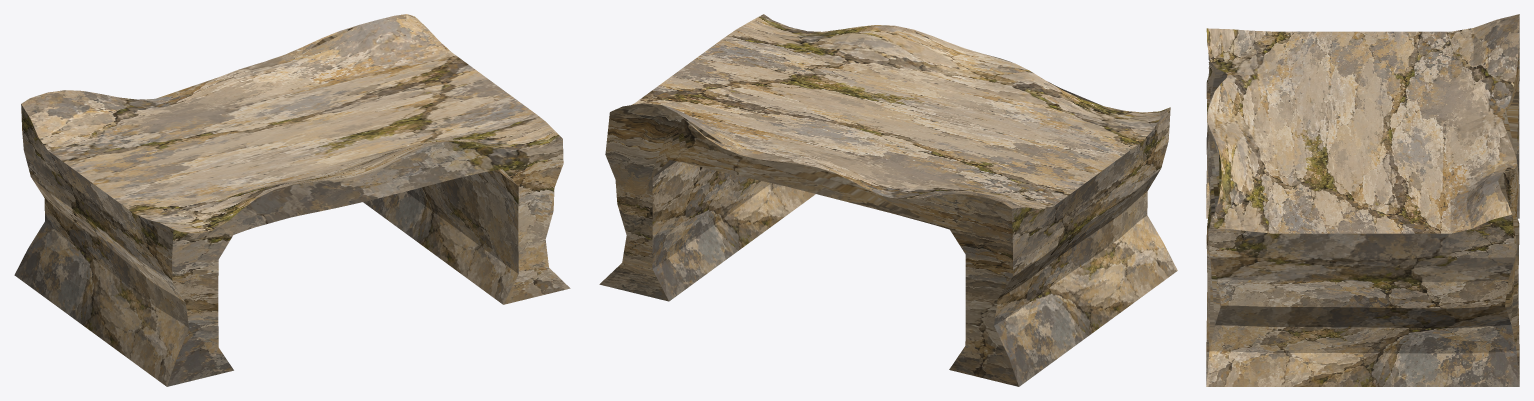
File: small-author.obj
3 views of the same model, side by side, from view 1: azimuth 30°, elevation 25°; view 2: azimuth 150°, elevation 25°; view 3: azimuth 270°, elevation 25° (orthographic). The views are drawn at different scales.
Parts seen in each view (by area): view 1: small-author; view 2: small-author; view 3: small-author.
Part boxes in pixels (bbox=[...]): small-author: bbox=[14, 14, 570, 386]; small-author: bbox=[599, 14, 1177, 386]; small-author: bbox=[1206, 14, 1519, 386].
Bounding box in the file's own units: 6 × 2.51 × 3.93.
1 material, 1 textured.
